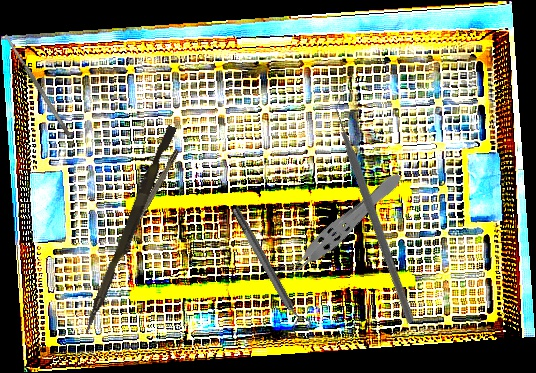Chopper: (256, 89, 500, 325)
Fixation Ring: (225, 203, 314, 336)
Hook Surgical: (121, 148, 181, 246)
Pusher: (82, 122, 177, 339)
Spatula Surgical: (3, 32, 72, 138)
Tissue Forceps: (276, 166, 408, 285)
